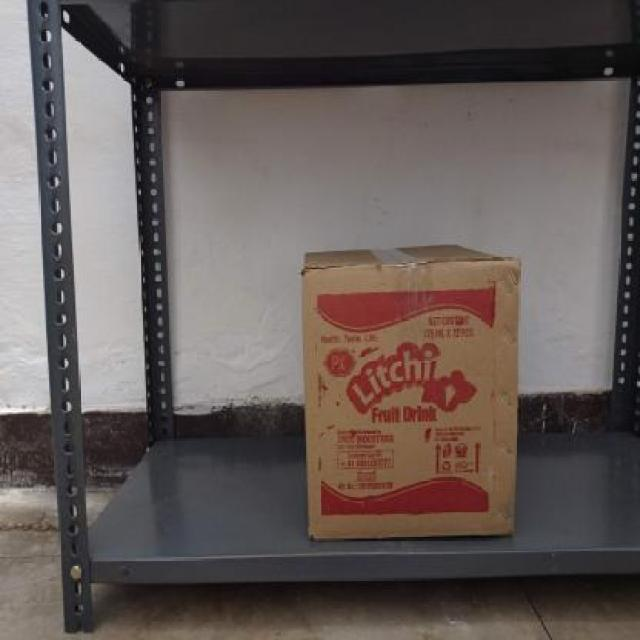box: (305, 268, 519, 536)
